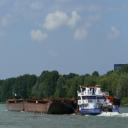tugboat: (75, 85, 122, 119)
